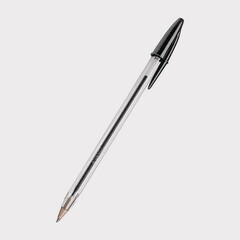pen: (53, 14, 186, 225)
